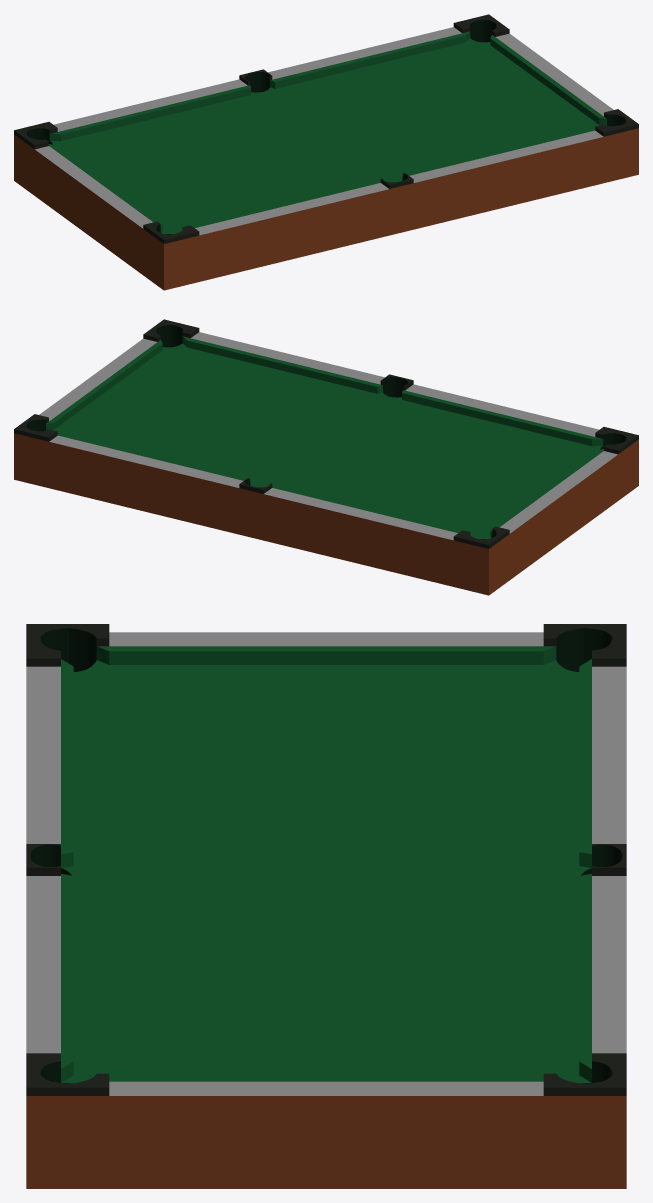
Rendered from Surface_PoolTable.fbx.
3 renders of one model, top to bottom at view 1: azimuth 30°, elevation 25°; view 2: azimuth 150°, elevation 25°; view 3: azimuth 270°, elevation 25°, orthographic. The views are drawn at different scales.
Parts seen in each view (by area): view 1: Surface_PoolTable; view 2: Surface_PoolTable; view 3: Surface_PoolTable.
Part boxes in pixels (x1,y1,x2,y2): Surface_PoolTable: (14,14,638,290); Surface_PoolTable: (14,319,638,595); Surface_PoolTable: (26,624,626,1188).
Bounding box in the file's own units: 58.5 × 5.95 × 32.
